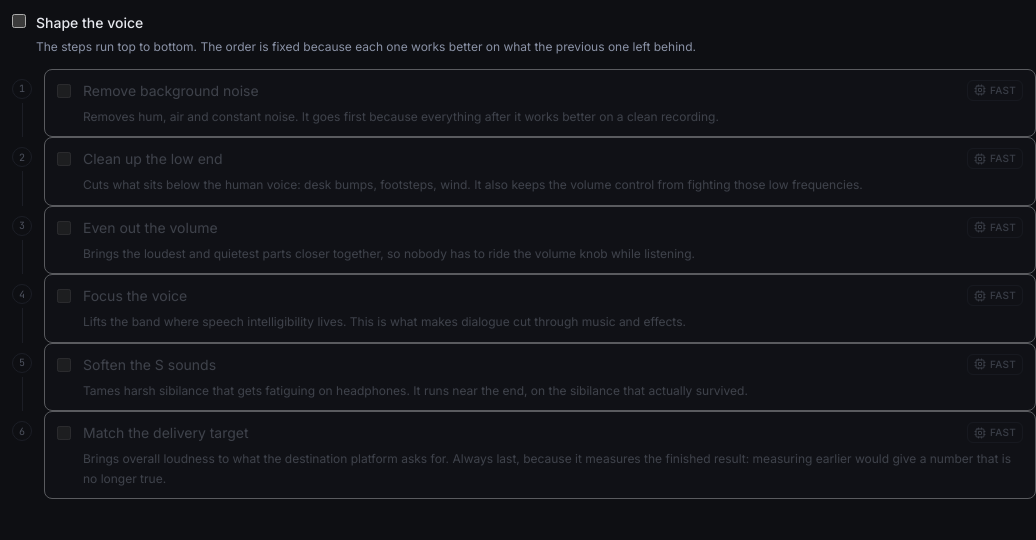
it: VoiceChainPanel › unlocks the steps once it is turned on
Click the checkbox labelled "Shape the voice" at x=19, y=21, box [12,14,26,28]
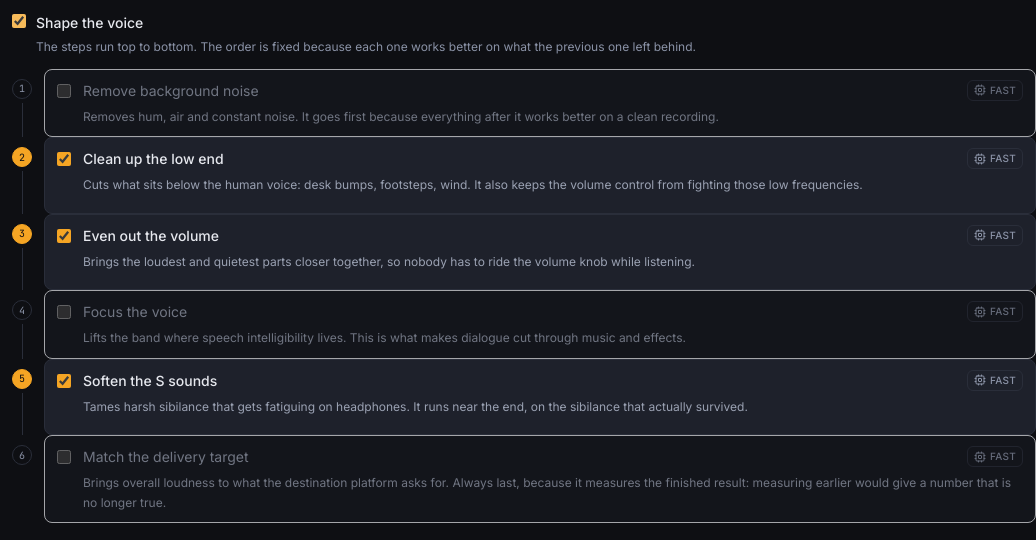
Expected: the checkbox labelled "Remove background noise" is enabled, [57,84,71,98]
Expected: the checkbox labelled "Clean up the low end" is enabled, [57,152,71,166]
Expected: the checkbox labelled "Even out the volume" is enabled, [57,228,71,242]
